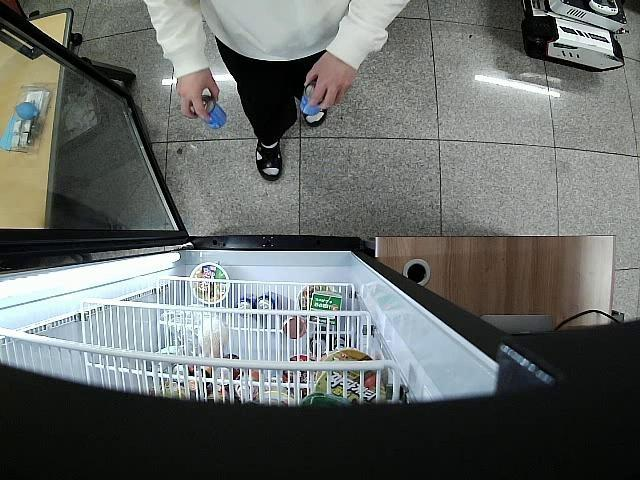15_letsbe: (200, 96, 227, 130), (298, 82, 322, 115)
